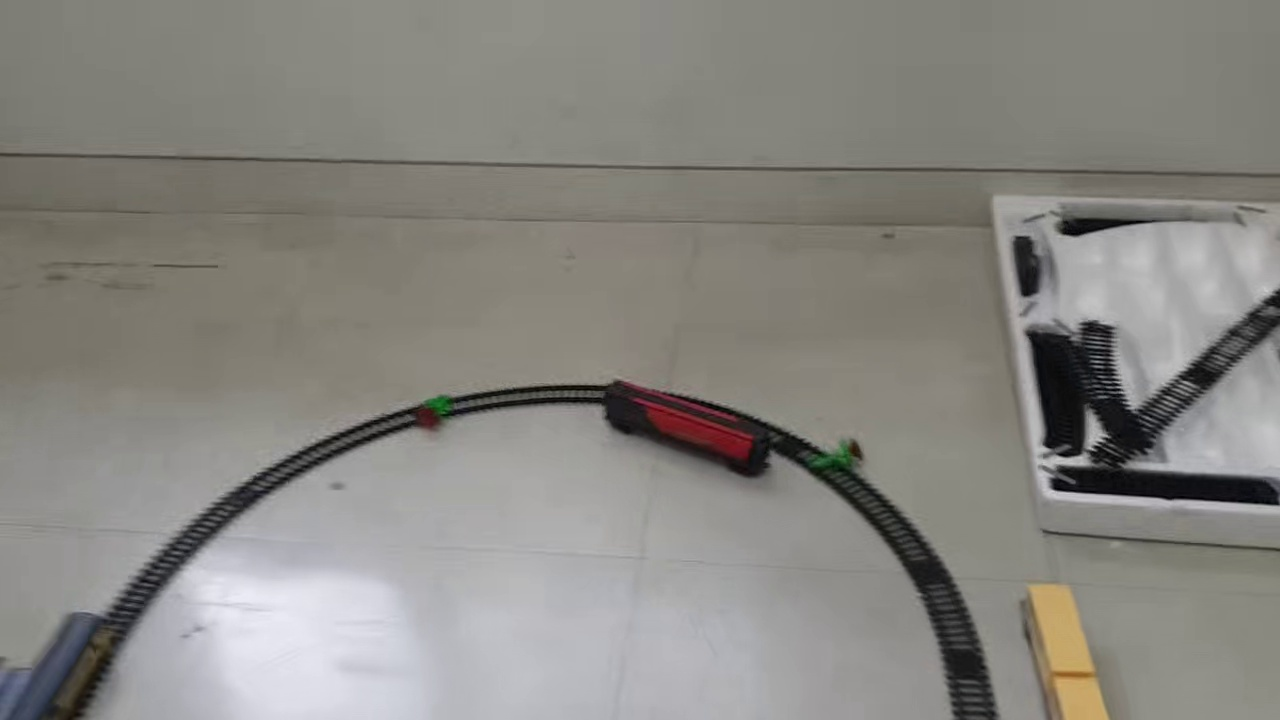tree: (806, 434, 863, 476), (402, 390, 449, 431)
